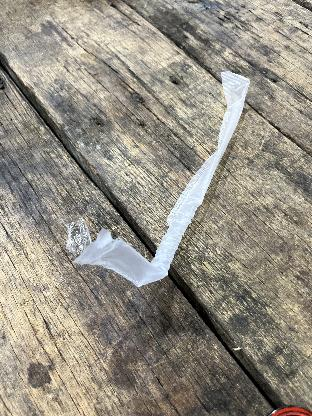Others: (88, 66, 250, 286), (65, 220, 94, 250)
